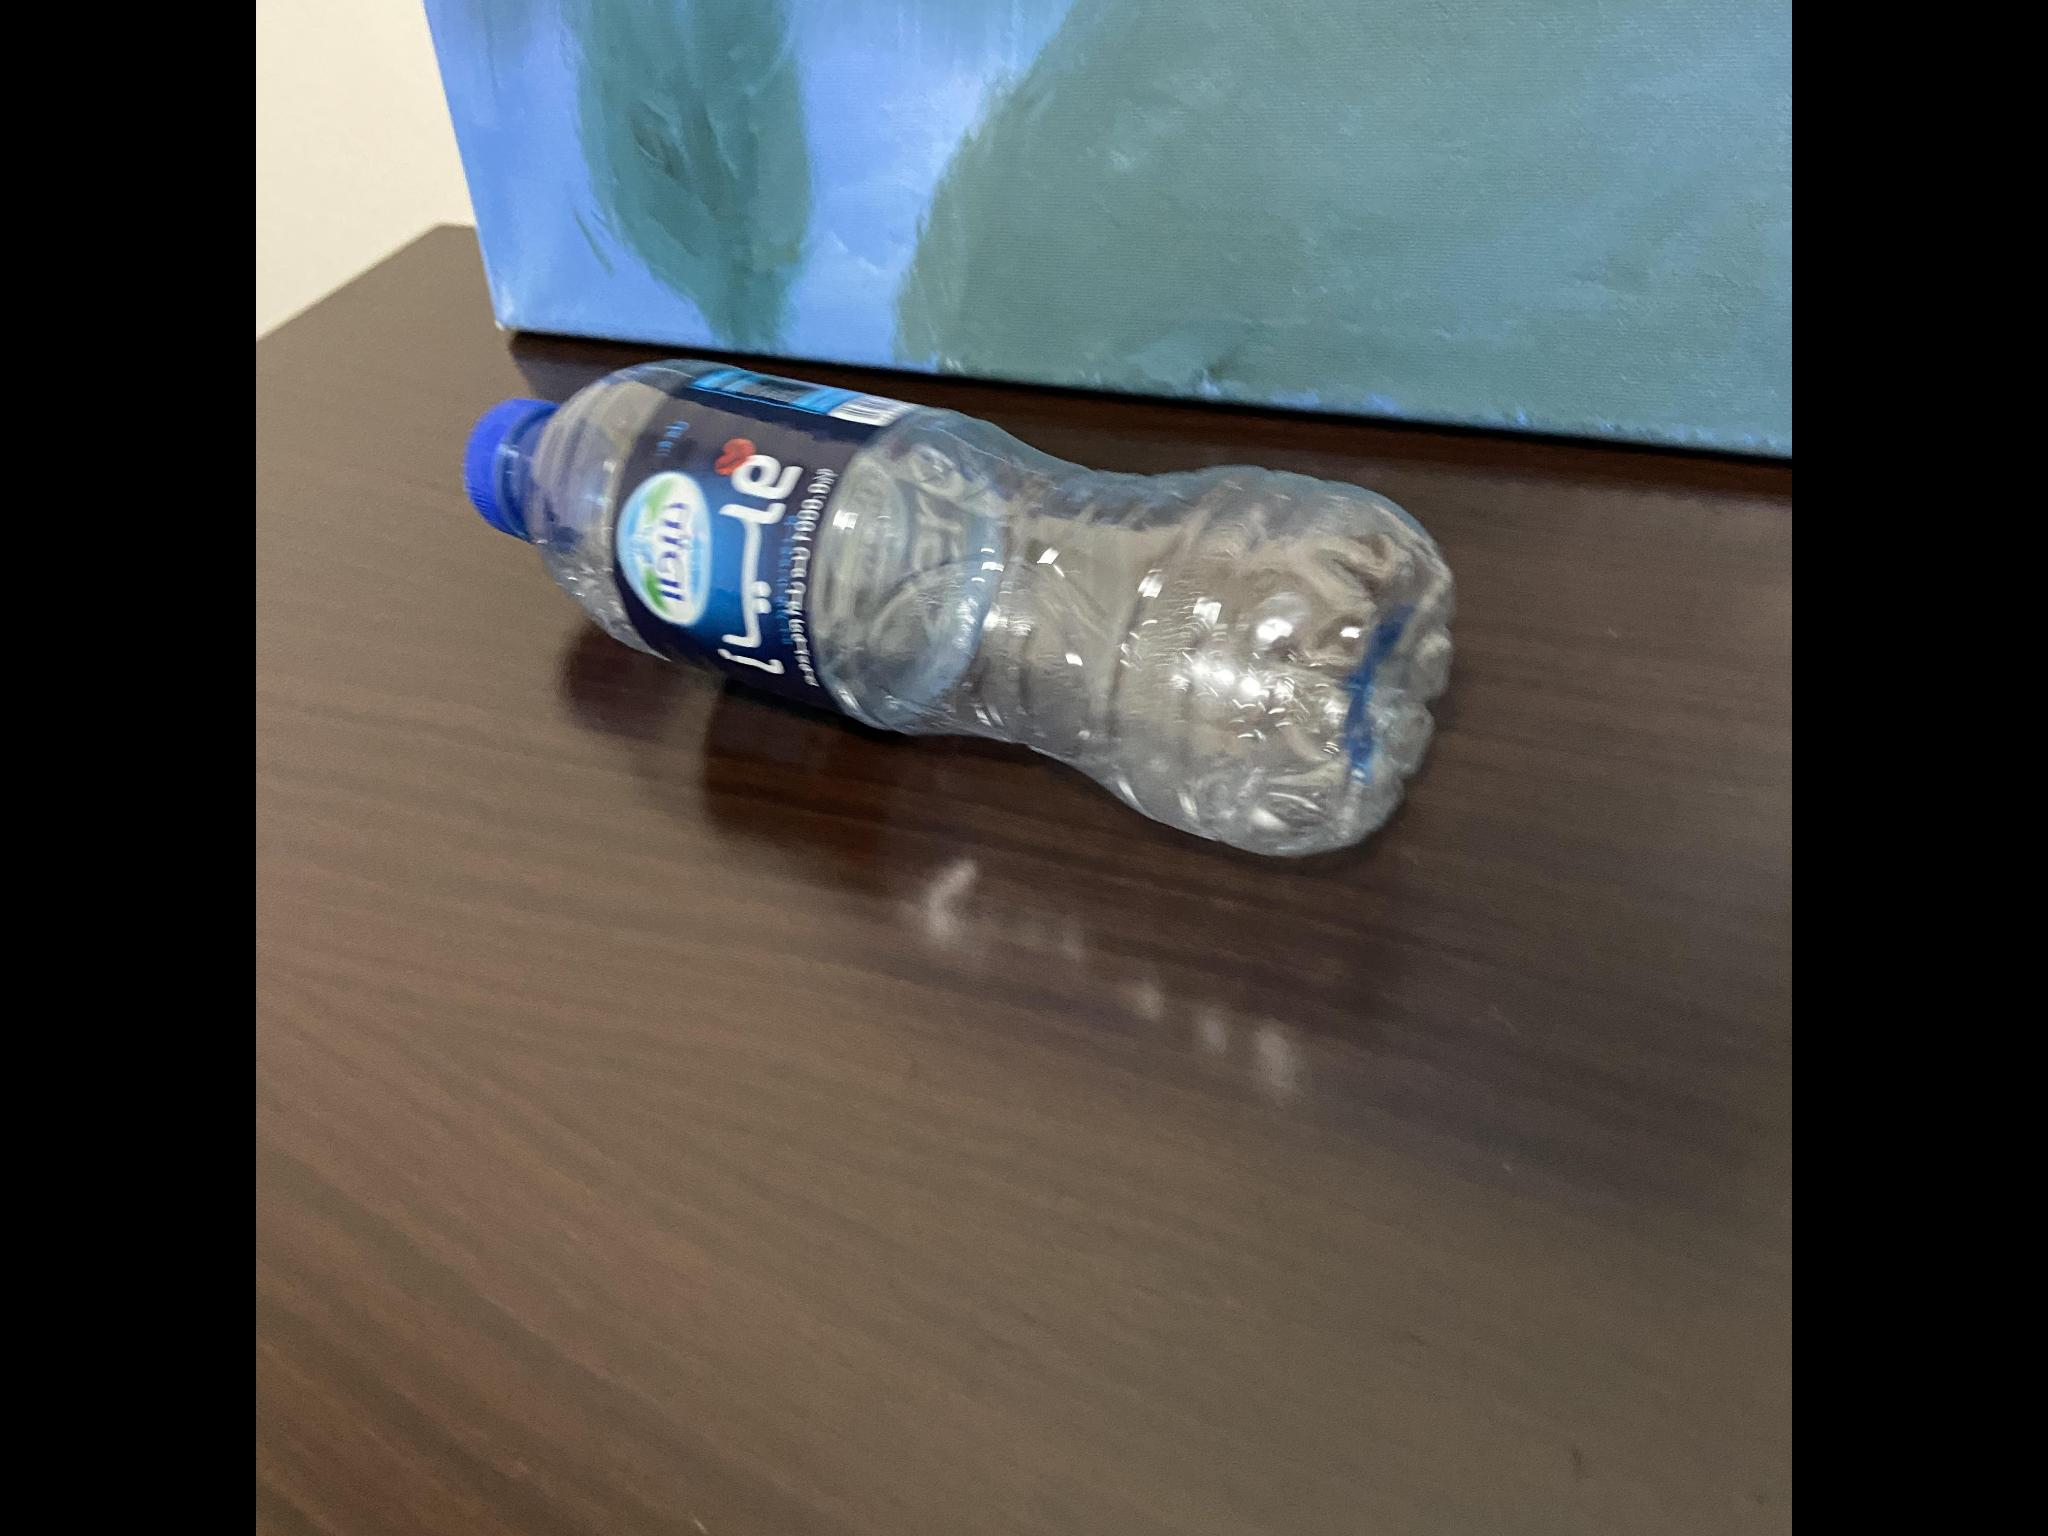bottle: (455, 342, 1472, 868)
